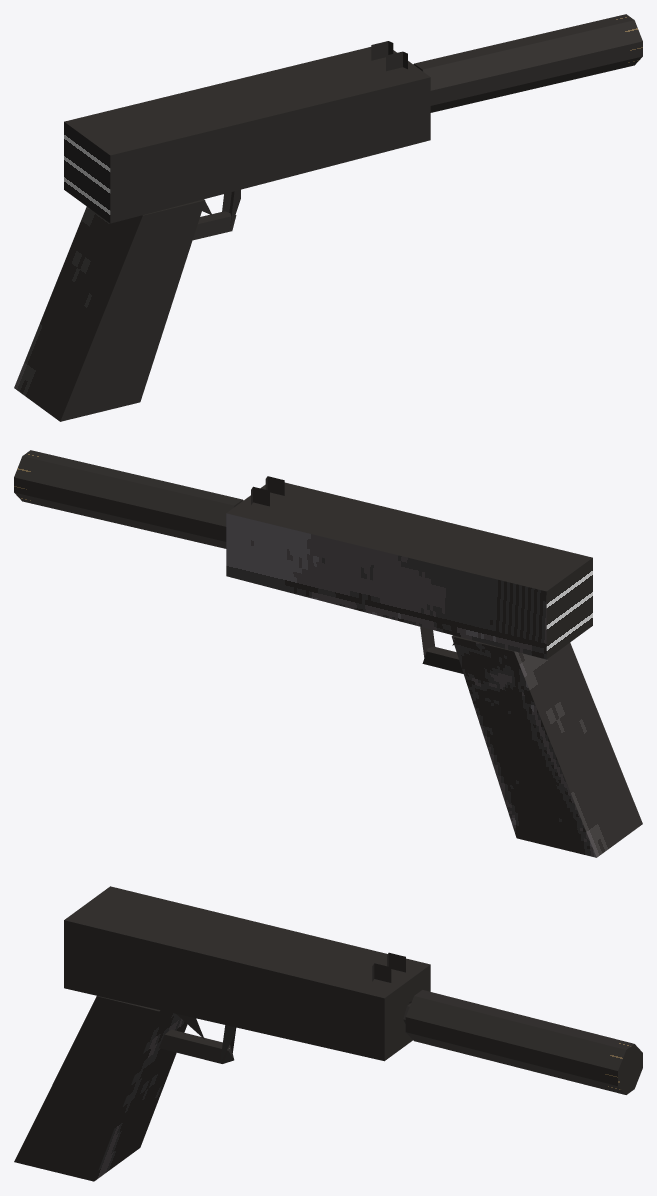
The model's file is glock.gltf.
The picture shows the model from 3 angles, top to bottom: view 1: azimuth 30°, elevation 25°; view 2: azimuth 150°, elevation 25°; view 3: azimuth 330°, elevation 25°; orthographic projection.
Bounding box in the file's own units: 1.85 × 0.8047 × 0.25.
1 material, 1 textured.
